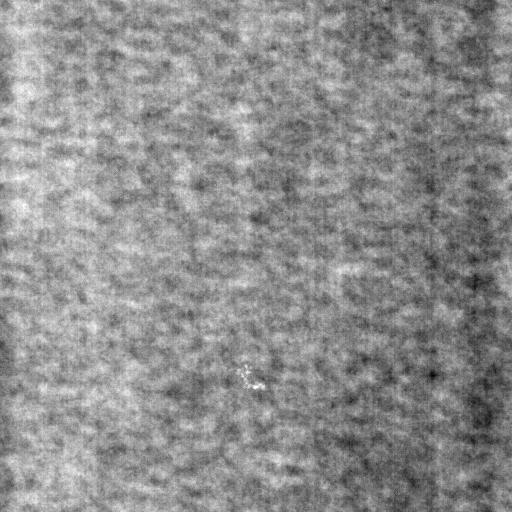DefectTypeA: (233, 366, 267, 391)
